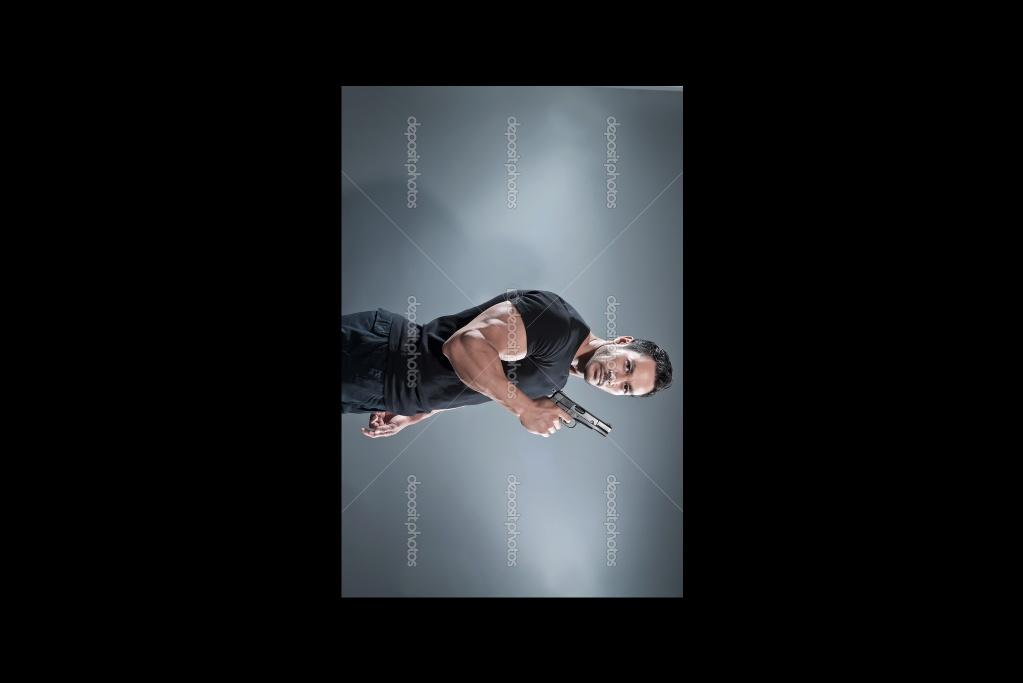weapon: (532, 388, 614, 446)
